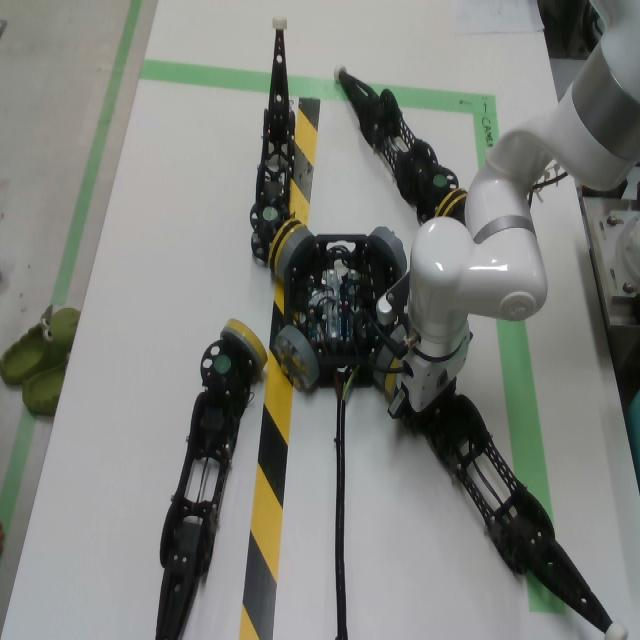body: (284, 235, 403, 389)
body_connector: (274, 325, 320, 391), (276, 228, 314, 281), (369, 227, 407, 276), (372, 345, 395, 389), (389, 324, 406, 344)
gripper: (388, 331, 473, 432)
leg: (418, 387, 629, 640), (155, 319, 268, 640), (333, 61, 467, 225), (249, 15, 306, 275)
leg_connector: (221, 319, 269, 372), (267, 217, 304, 273), (434, 189, 468, 225), (384, 375, 396, 397), (390, 357, 402, 369)
leg_marker: (215, 355, 232, 373), (263, 207, 277, 220), (433, 175, 447, 187)
